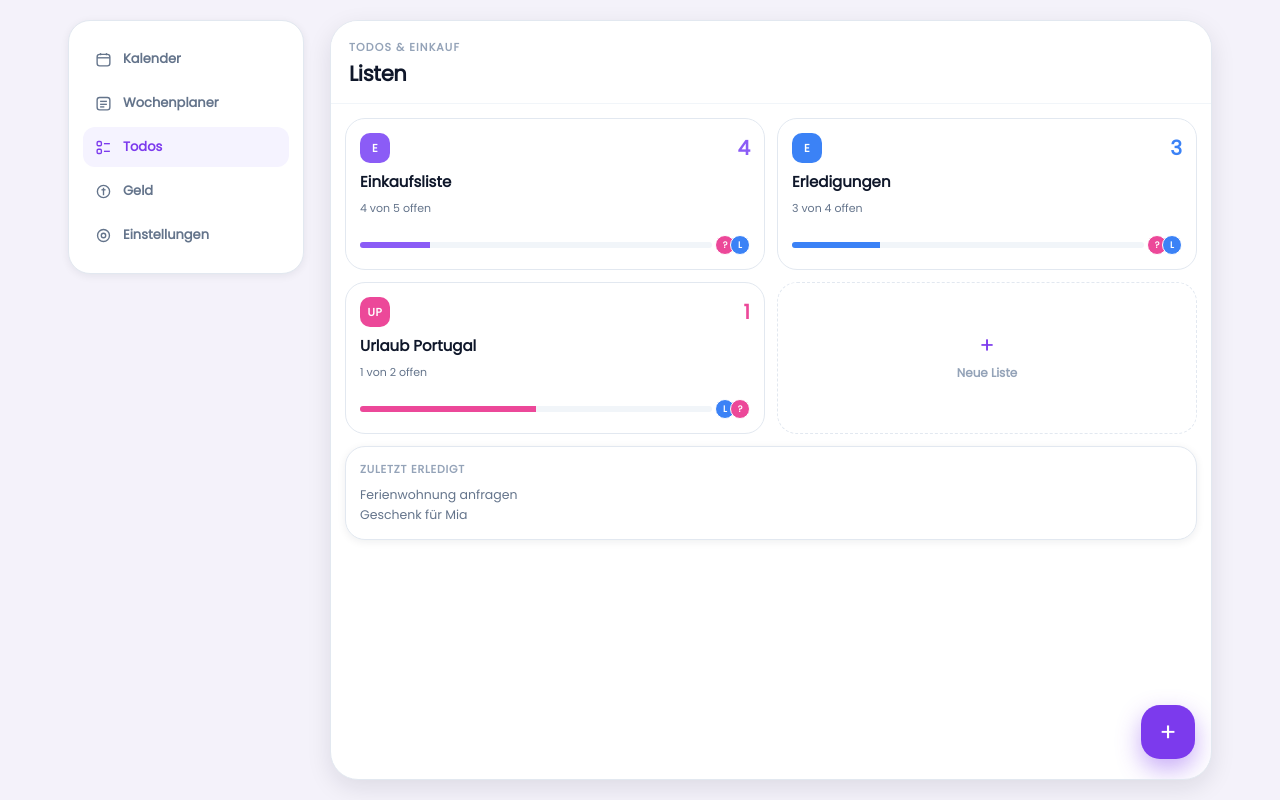
TodoOverview › oeffnet eine Liste
Click the button "E 4 Einkaufsliste 4 von 5 offen ? L" at [406, 182], box [345,118,765,270]
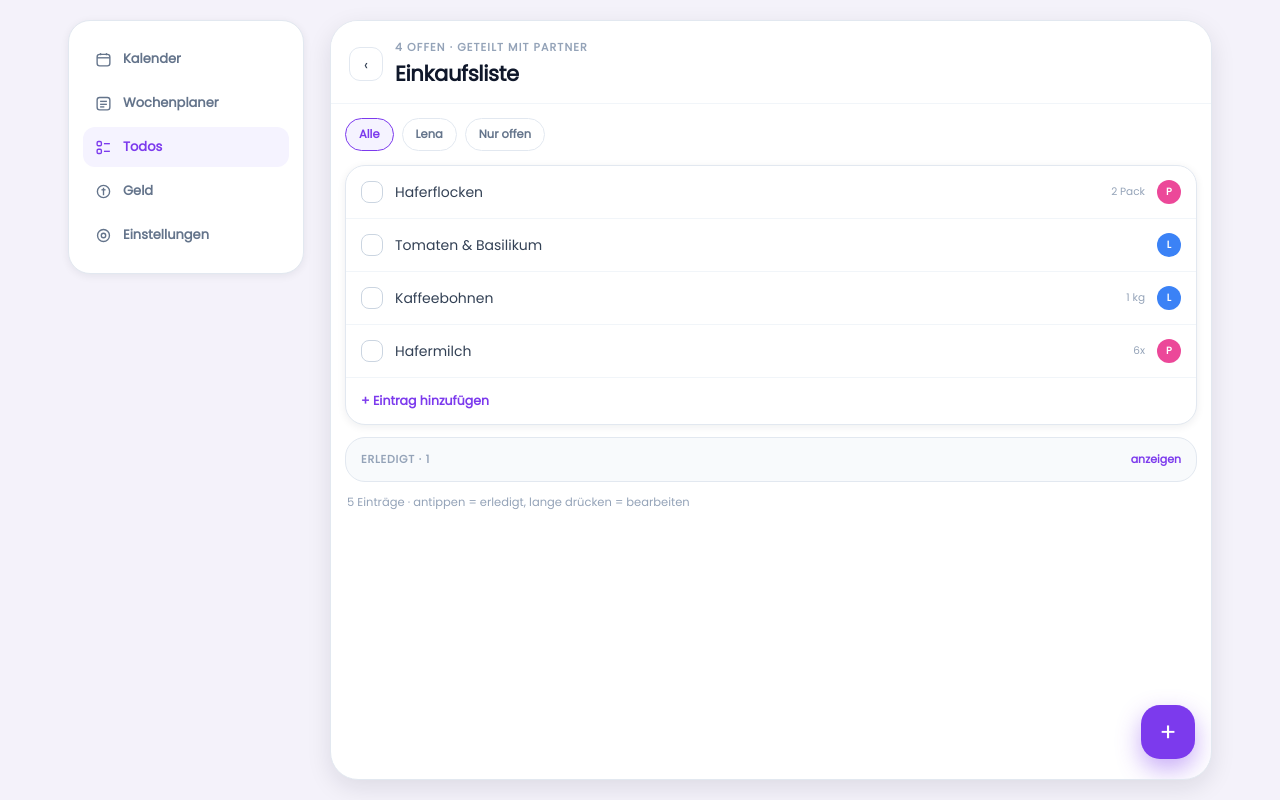
Check: the button named "Zurück" is shown, box [349,47,383,81]
